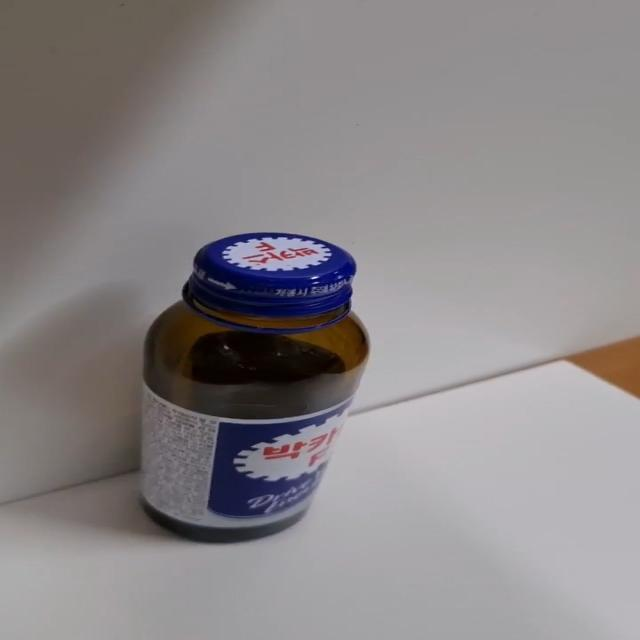Glass: (139, 232, 372, 546)
